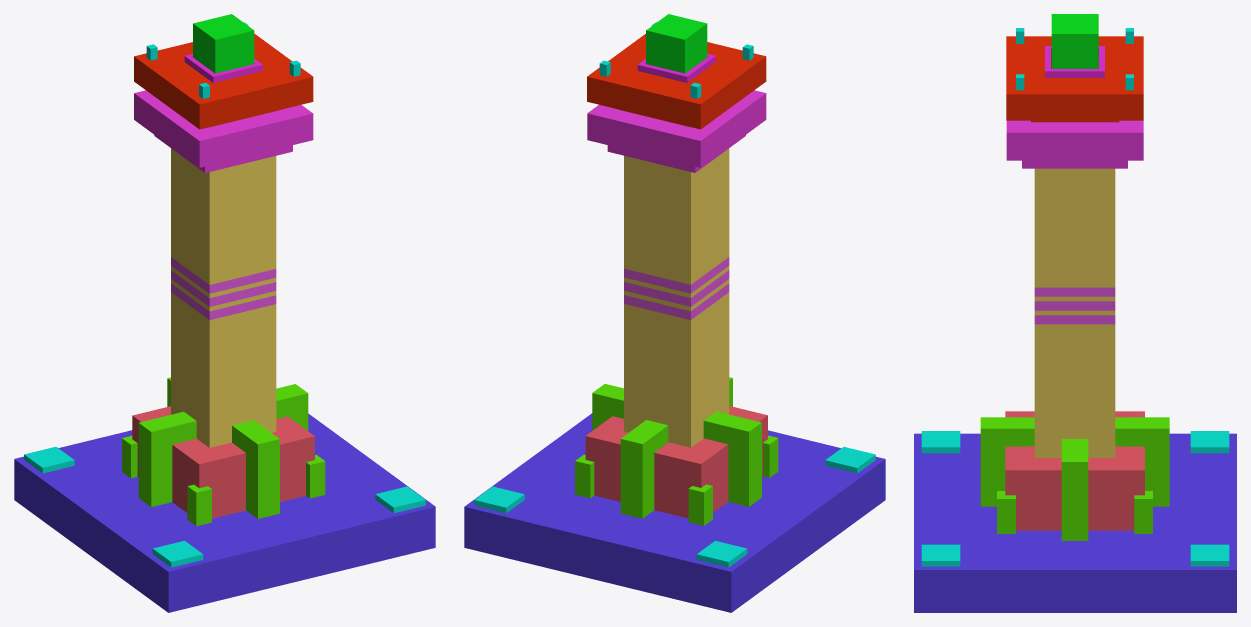
The model's file is sniper_Lv3.fbx.
3 views of the same model, side by side, from view 1: azimuth 30°, elevation 25°; view 2: azimuth 150°, elevation 25°; view 3: azimuth 270°, elevation 25° (orthographic). The views are drawn at different scales.
Parts seen in each view (by area): view 1: Cube.006; view 2: Cube.006; view 3: Cube.006.
Boxes of the visible parts, box(x1,y1,x2,y2) form: Cube.006: box(14, 14, 435, 612); Cube.006: box(464, 14, 885, 612); Cube.006: box(914, 14, 1236, 612).
Bounding box in the file's own units: 200 × 356 × 200.
